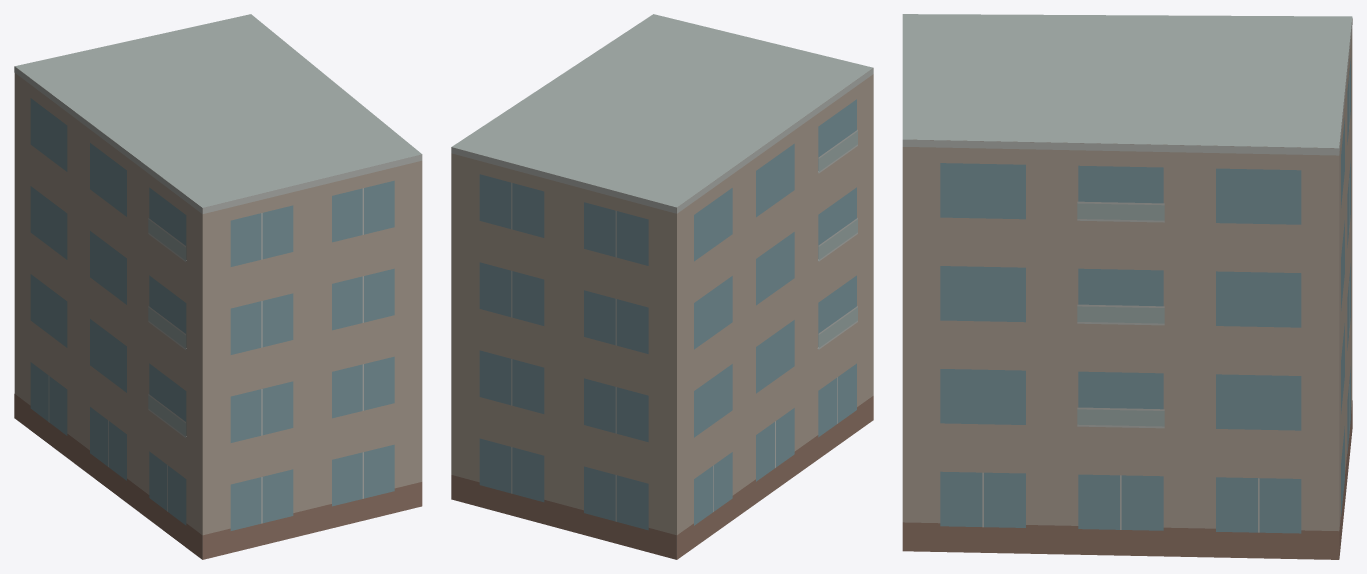
Rendered from survey-upis-33026925.glb.
The picture shows the model from 3 angles, left to right: view 1: azimuth 30°, elevation 25°; view 2: azimuth 150°, elevation 25°; view 3: azimuth 270°, elevation 25°; orthographic projection. The views are drawn at different scales.
Parts seen in each view (by area): view 1: survey-upis-33026925.tmp; view 2: survey-upis-33026925.tmp; view 3: survey-upis-33026925.tmp.
Boxes of the visible parts, x1=… form: survey-upis-33026925.tmp: x1=14, y1=14, x2=422, y2=559; survey-upis-33026925.tmp: x1=451, y1=14, x2=873, y2=559; survey-upis-33026925.tmp: x1=902, y1=14, x2=1352, y2=559.
Size of the model in its own units: 9.61 by 13.7 by 13.58.
